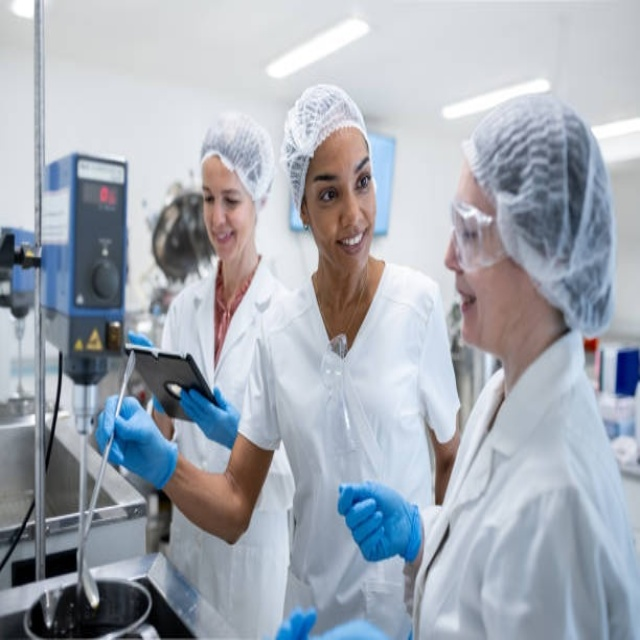Gafas: (450, 199, 506, 271)
Guantes: (94, 392, 180, 493), (335, 475, 425, 568), (174, 381, 237, 445)
Sin_gafas: (315, 158, 373, 210), (204, 177, 249, 216)
Sin_mascara: (454, 278, 493, 344), (325, 215, 373, 267), (207, 224, 242, 260)
